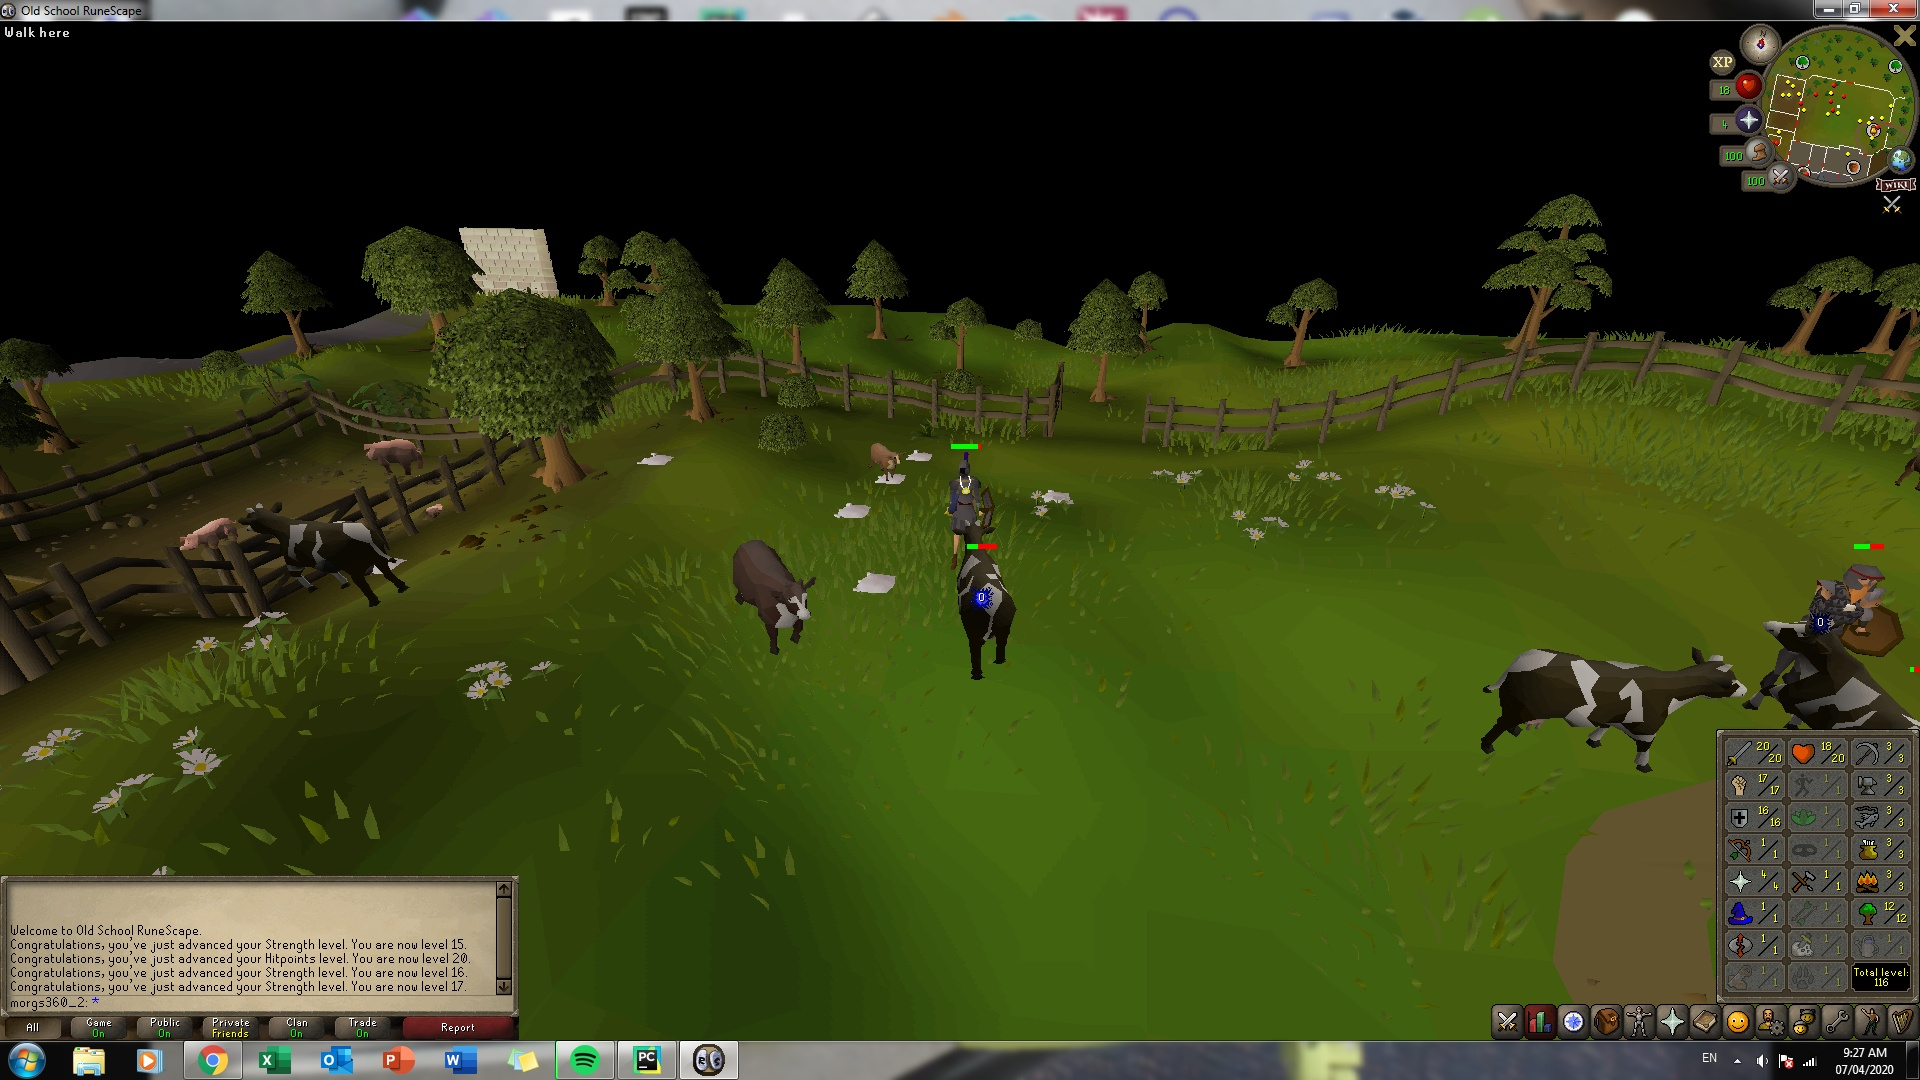cow: (1476, 635, 1716, 770), (238, 498, 412, 609), (1755, 618, 1914, 726), (726, 537, 820, 661), (943, 523, 1013, 682), (869, 442, 906, 484)
player: (943, 457, 992, 520)
